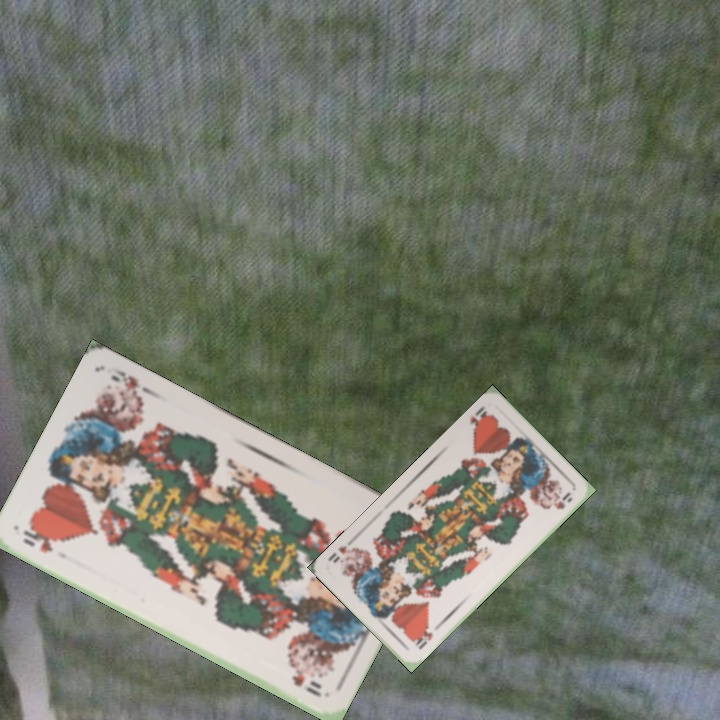HO: (19, 524, 59, 555), (466, 407, 495, 436), (409, 623, 435, 652)
